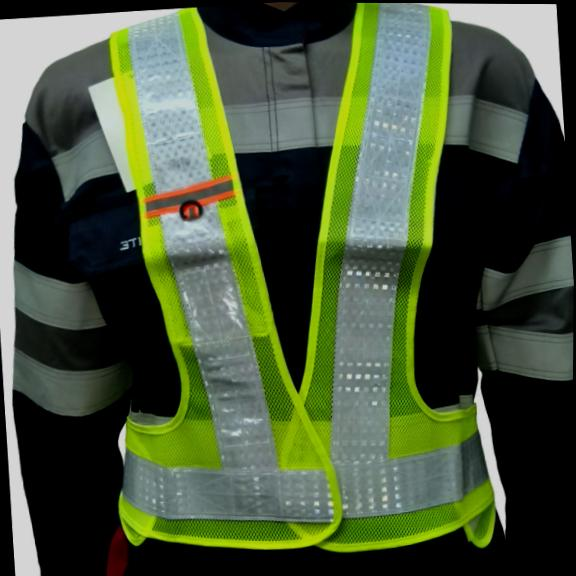safety_vest: (81, 1, 506, 576)
